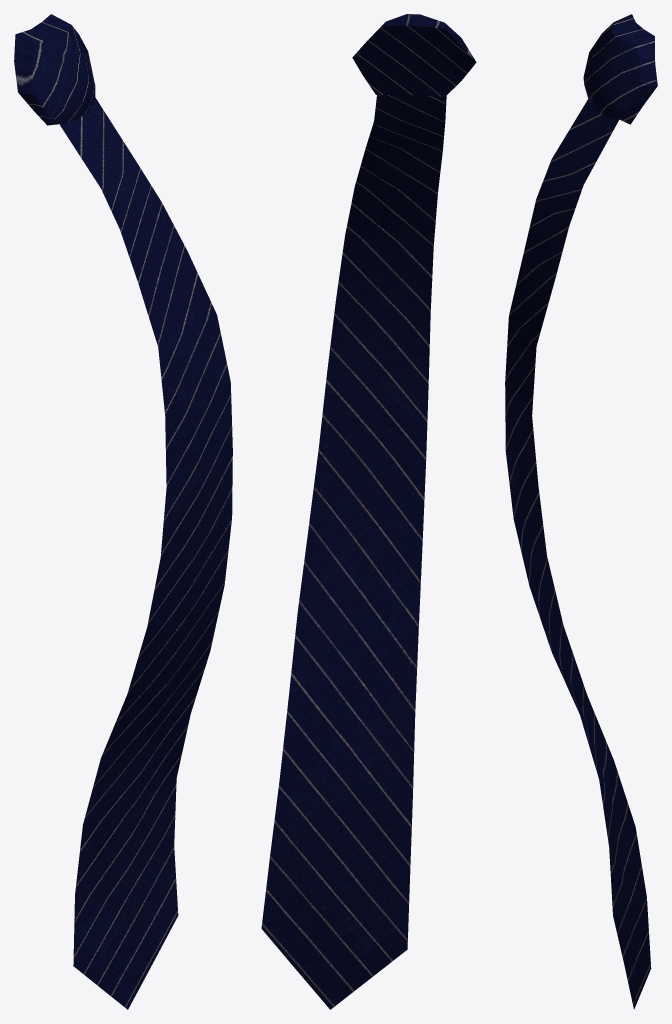
Rendered from Pose-4_SuitTie-4.fbx.
The picture shows the model from 3 angles, left to right: view 1: azimuth 30°, elevation 25°; view 2: azimuth 150°, elevation 25°; view 3: azimuth 270°, elevation 25°; orthographic projection. The views are drawn at different scales.
Visible parts, largest first — view 1: Pose-4_SuitTie-4; view 2: Pose-4_SuitTie-4; view 3: Pose-4_SuitTie-4.
Boxes of the visible parts, <box> form: Pose-4_SuitTie-4: <box>14,14,232,1009</box>; Pose-4_SuitTie-4: <box>261,14,476,1009</box>; Pose-4_SuitTie-4: <box>505,14,657,1009</box>.
Bounding box in the file's own units: 10.08 × 51.67 × 7.58.
